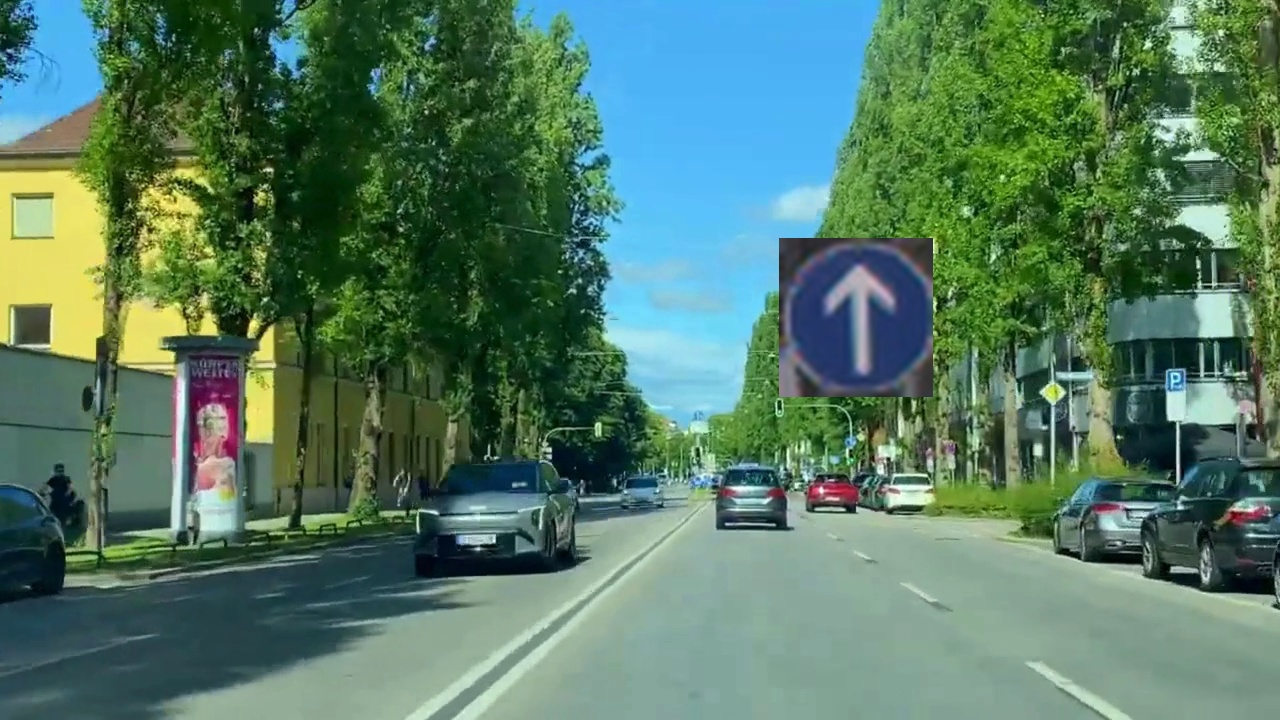Ahead only: (779, 238, 933, 397)
